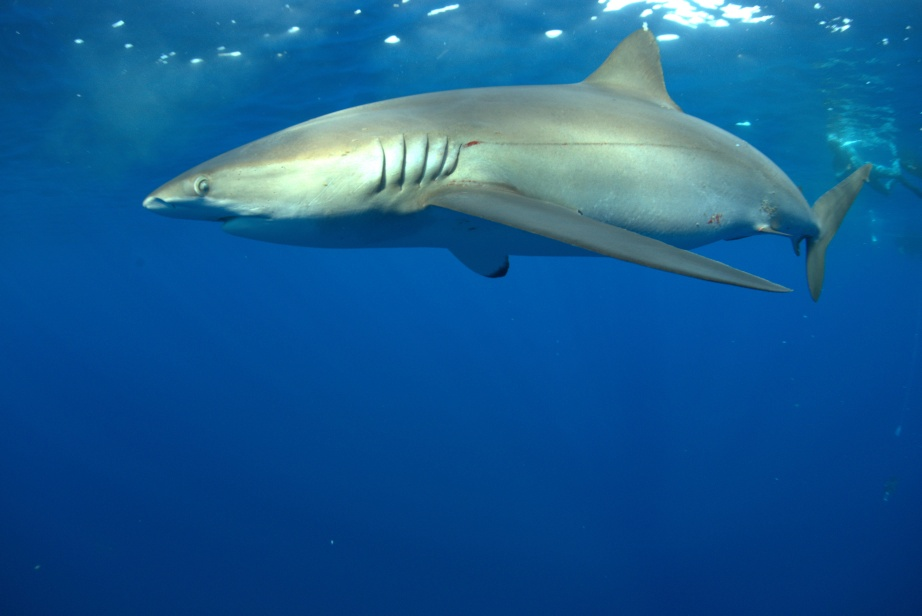Sedoso: (132, 22, 873, 319)
